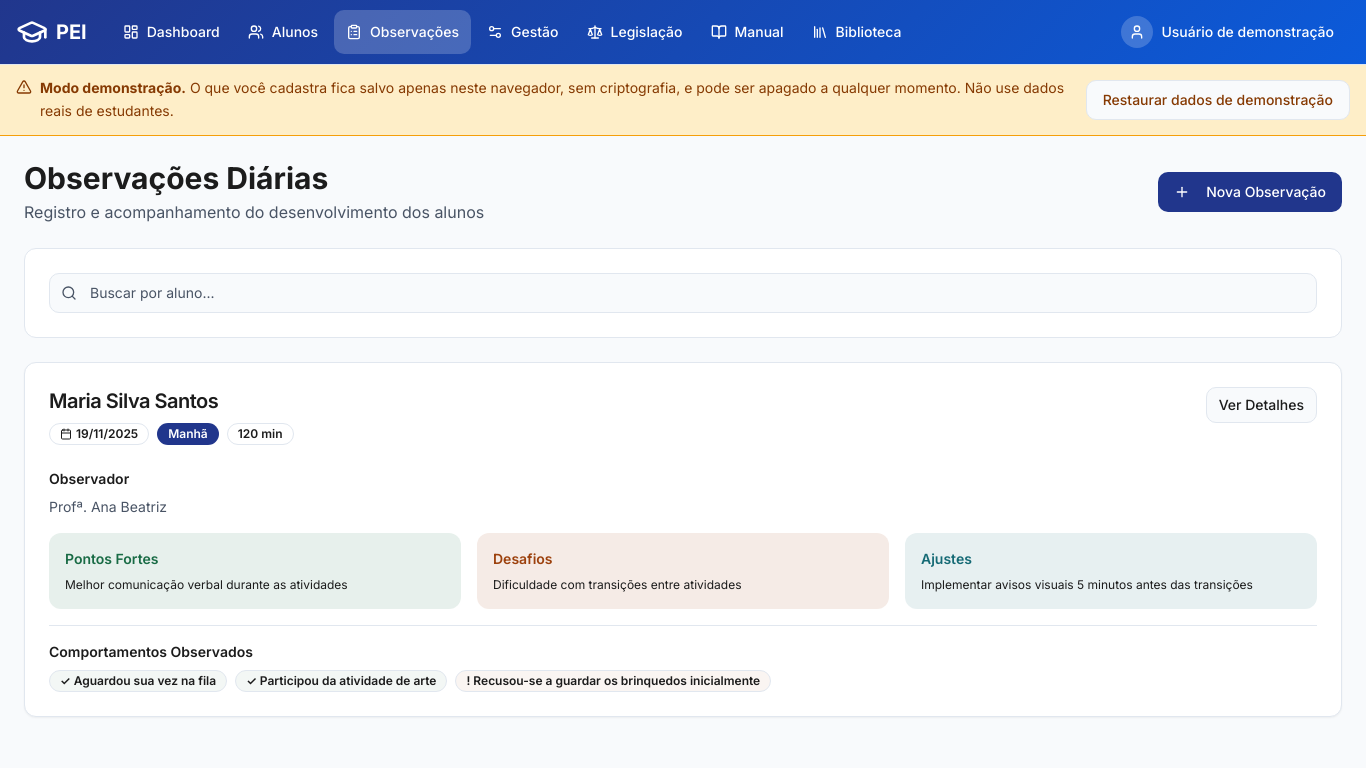
Test: Detalhe da observação: só o que foi registrado › mostra o que a observação tem, e nada do que o diálogo inventava
Click the button "Ver Detalhes": click(1261, 404) [1206,386,1317,422]
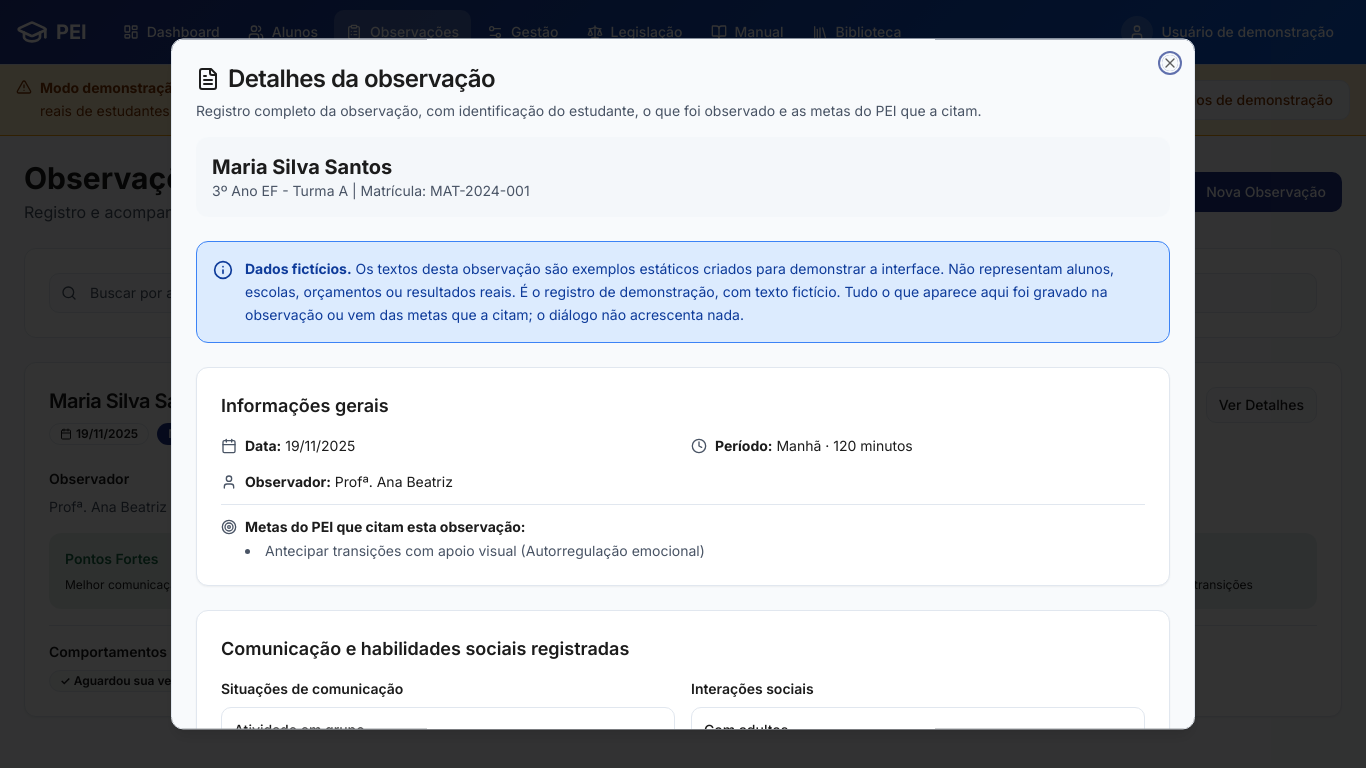
Result: the heading "Maria Silva Santos" is shown at [212,155,392,179]
Result: the text "Período: Manhã · 120 minutos" is shown at [715,437,913,457]
Result: the list item "Antecipar transições com apoio visual" is shown at [265,543,517,560]
